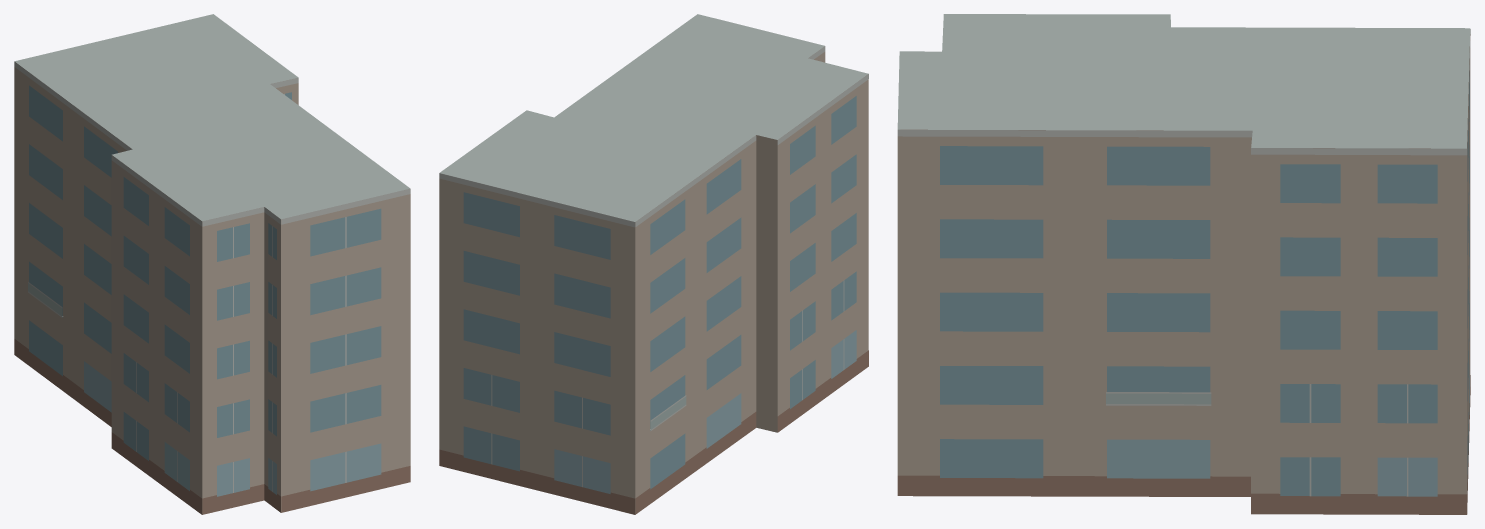
Rendered from survey-upis-33039268.glb.
3 renders of one model, left to right at view 1: azimuth 30°, elevation 25°; view 2: azimuth 150°, elevation 25°; view 3: azimuth 270°, elevation 25°, orthographic. The views are drawn at different scales.
Parts seen in each view (by area): view 1: survey-upis-33039268.tmp; view 2: survey-upis-33039268.tmp; view 3: survey-upis-33039268.tmp.
Boxes of the visible parts, box(x1,y1,x2,y2) form: survey-upis-33039268.tmp: box(14, 14, 410, 514); survey-upis-33039268.tmp: box(439, 14, 868, 514); survey-upis-33039268.tmp: box(897, 14, 1470, 514).
Bounding box in the file's own units: 10.41 × 13.2 × 18.72.
